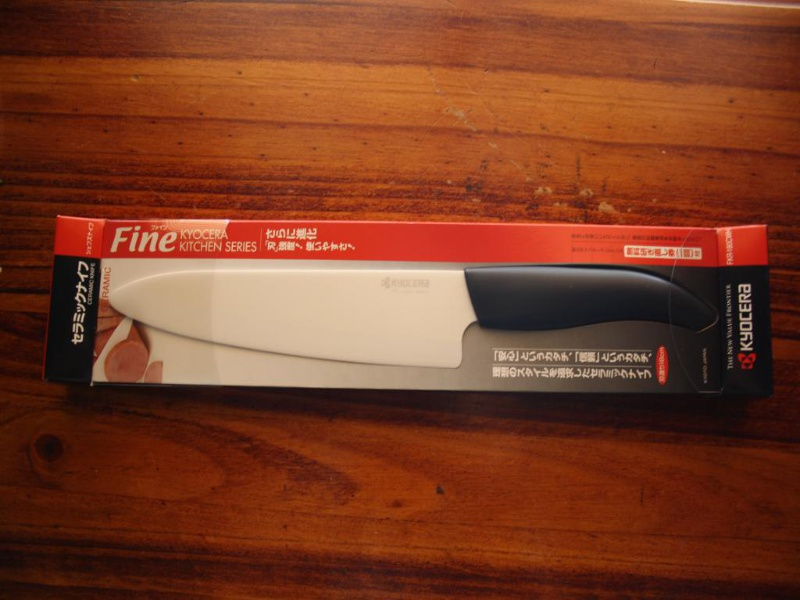knife: (106, 266, 722, 372)
